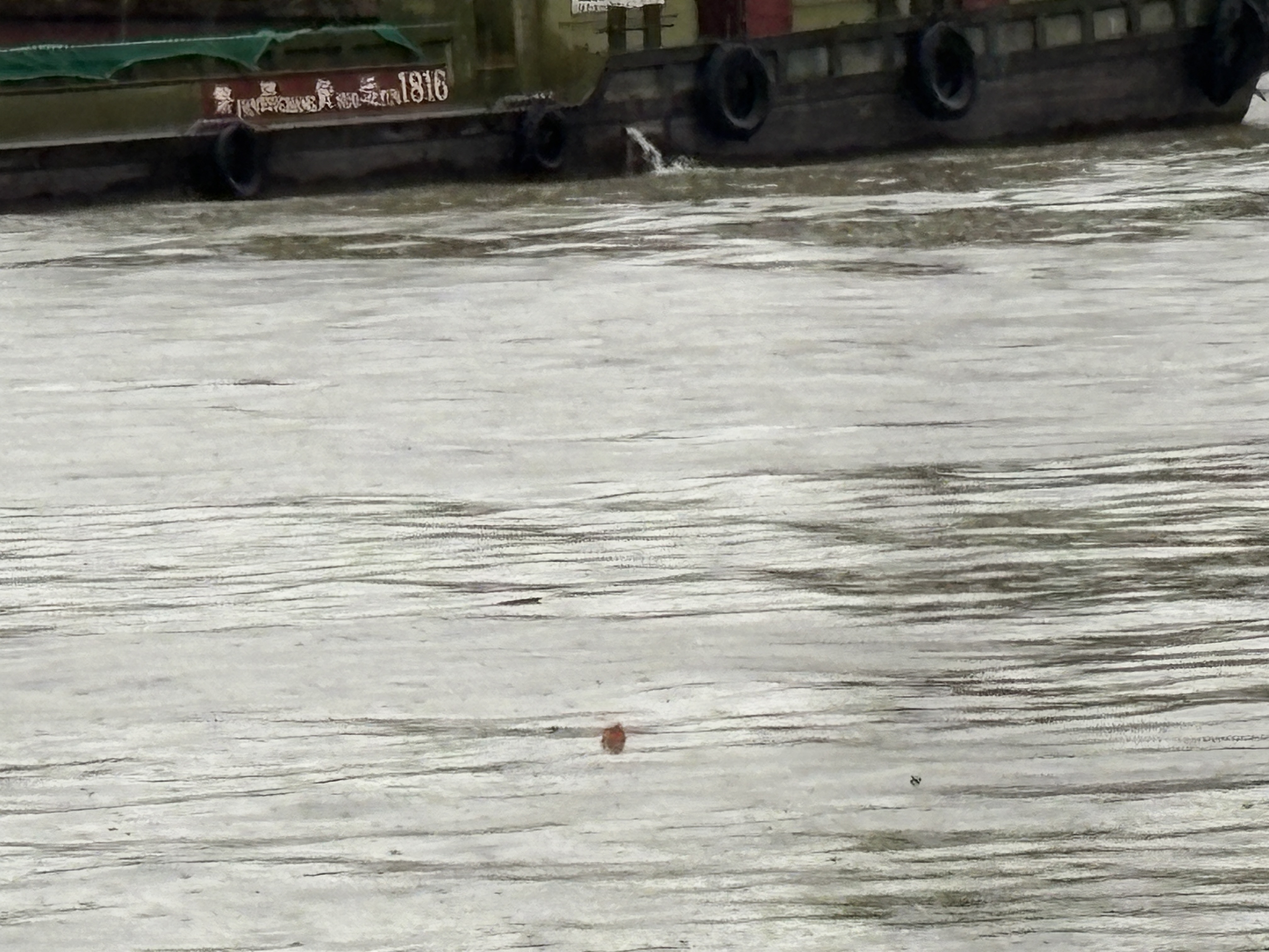Natural wastes: (499, 589, 545, 609)
Plastic wastes: (595, 717, 632, 749)
